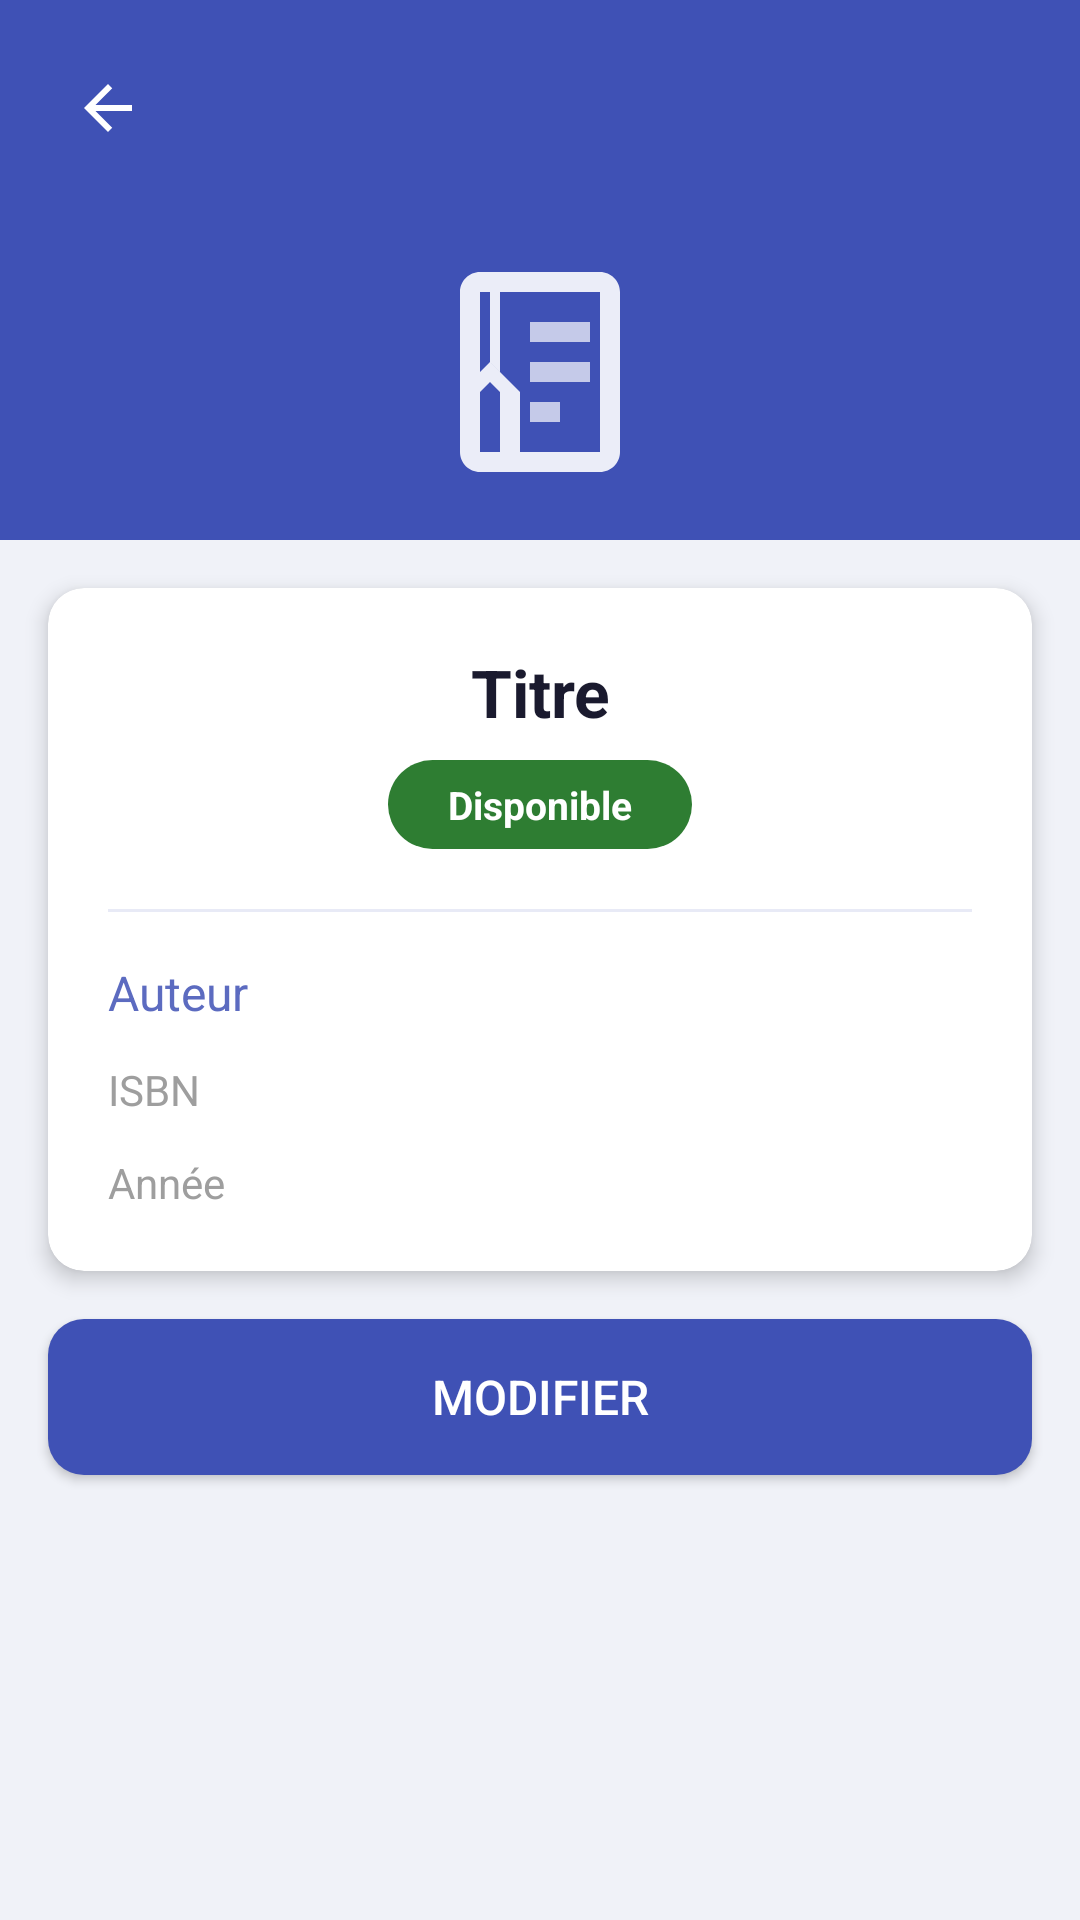

Where icons sit on this 1080px x 1920px app screen, as box=[x1, y1, x2, y2]:
Retour: box=[84, 84, 132, 132]
